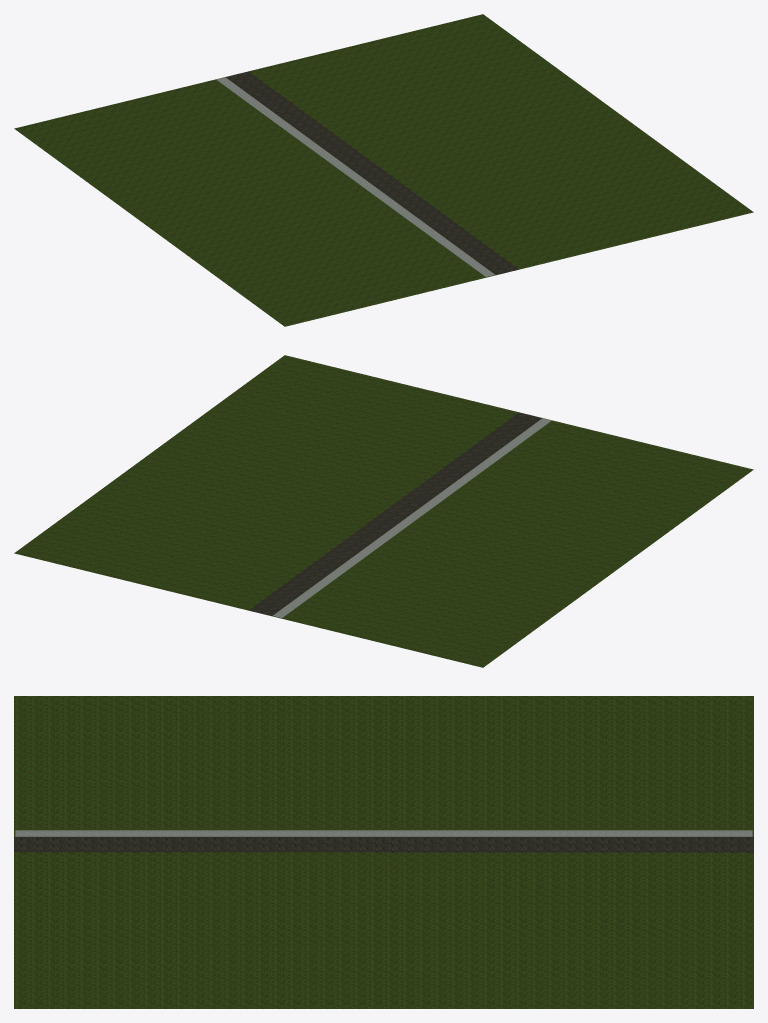
File: level_01.glb
3 renders of one model, top to bottom at view 1: azimuth 30°, elevation 25°; view 2: azimuth 150°, elevation 25°; view 3: azimuth 270°, elevation 25°, orthographic. The views are drawn at different scales.
Parts seen in each view (by area): view 1: Plane, Cube; view 2: Plane, Cube; view 3: Plane, Cube.
Part boxes in pixels (x1,y1,x2,y2): Plane: (14,14,753,326); Cube: (216,77,494,277); Plane: (14,355,753,667); Cube: (273,418,551,618); Plane: (14,696,753,1008); Cube: (15,830,752,836).
Bounding box in the file's own units: 200 × 0.0625 × 200.
3 materials, 3 textured.
